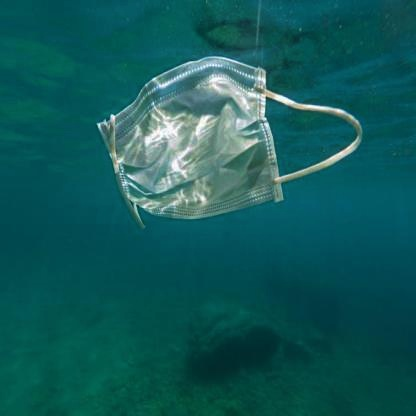Mask: (93, 51, 365, 229)
